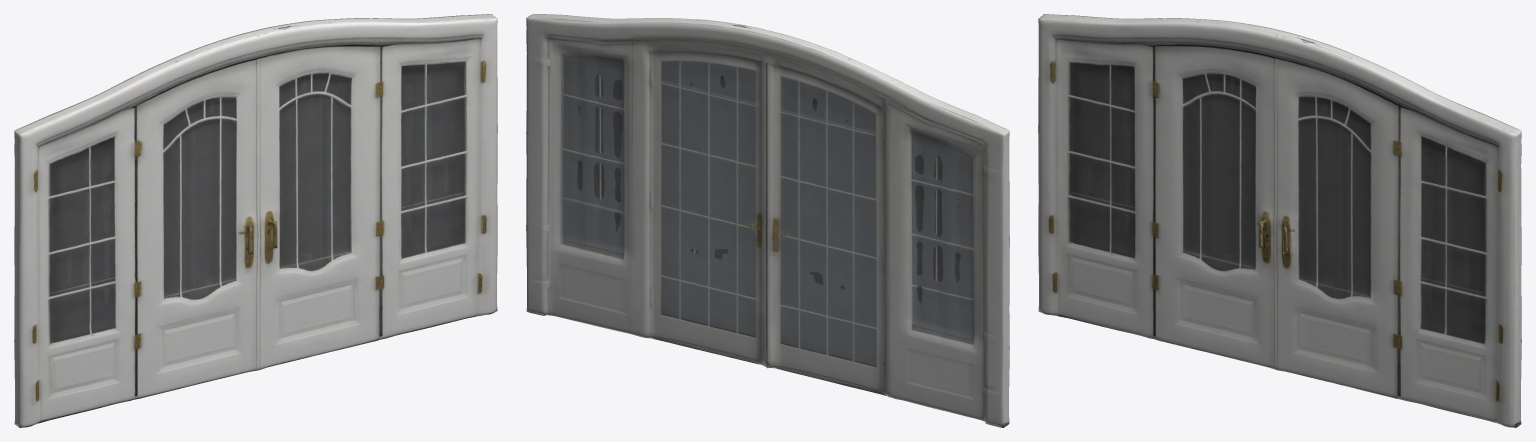
Rendered from french_doors.glb.
3 views of the same model, side by side, from view 1: azimuth 30°, elevation 25°; view 2: azimuth 150°, elevation 25°; view 3: azimuth 330°, elevation 25° (orthographic).
Parts seen in each view (by area): view 1: Mesh1_Mesh1.095; view 2: Mesh1_Mesh1.095; view 3: Mesh1_Mesh1.095.
Part boxes in pixels (<box>): Mesh1_Mesh1.095: <box>14,14,497,427</box>; Mesh1_Mesh1.095: <box>526,14,1009,427</box>; Mesh1_Mesh1.095: <box>1038,14,1521,427</box>.
Size of the model in its own units: 2 by 1.34 by 0.0783.
1 material, 1 textured.
